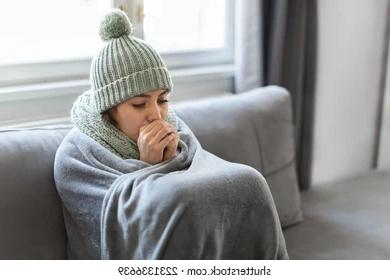blanket: (53, 107, 290, 260)
